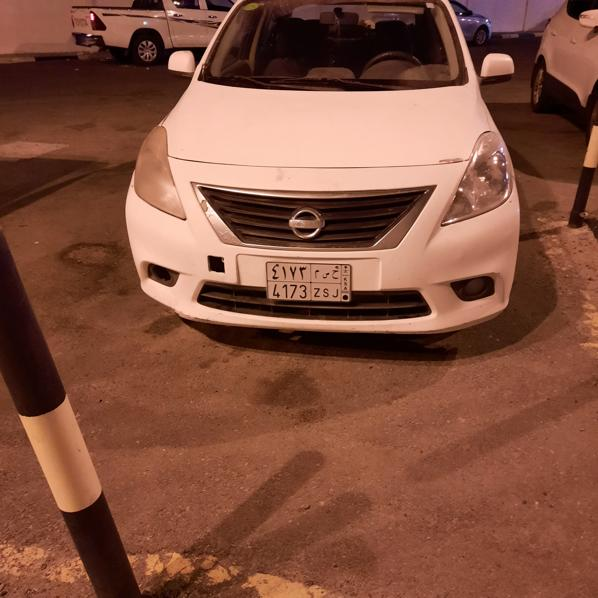numberplate: (266, 261, 352, 302)
